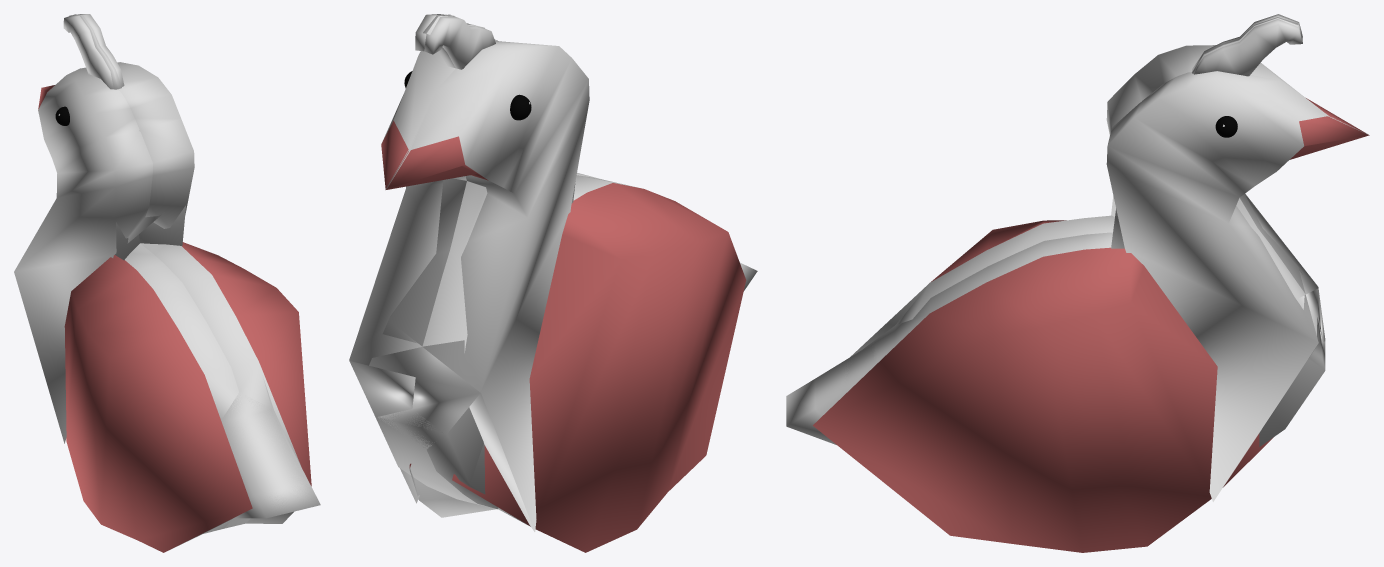
The model's file is duck4.fbx.
3 views of the same model, side by side, from view 1: azimuth 30°, elevation 25°; view 2: azimuth 150°, elevation 25°; view 3: azimuth 270°, elevation 25° (orthographic). The views are drawn at different scales.
Visible parts, largest first — view 1: Plane; view 2: Plane; view 3: Plane.
Boxes of the visible parts, left/top/right/bottom form: Plane: left=14, top=14, right=320, bottom=552; Plane: left=349, top=14, right=757, bottom=552; Plane: left=786, top=14, right=1369, bottom=552.
Size of the model in its own units: 284 by 620 by 658.
